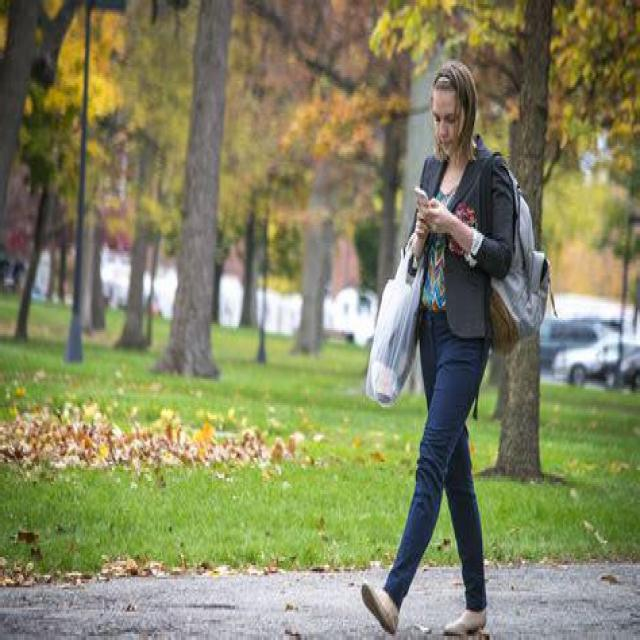face: (431, 63, 475, 156)
